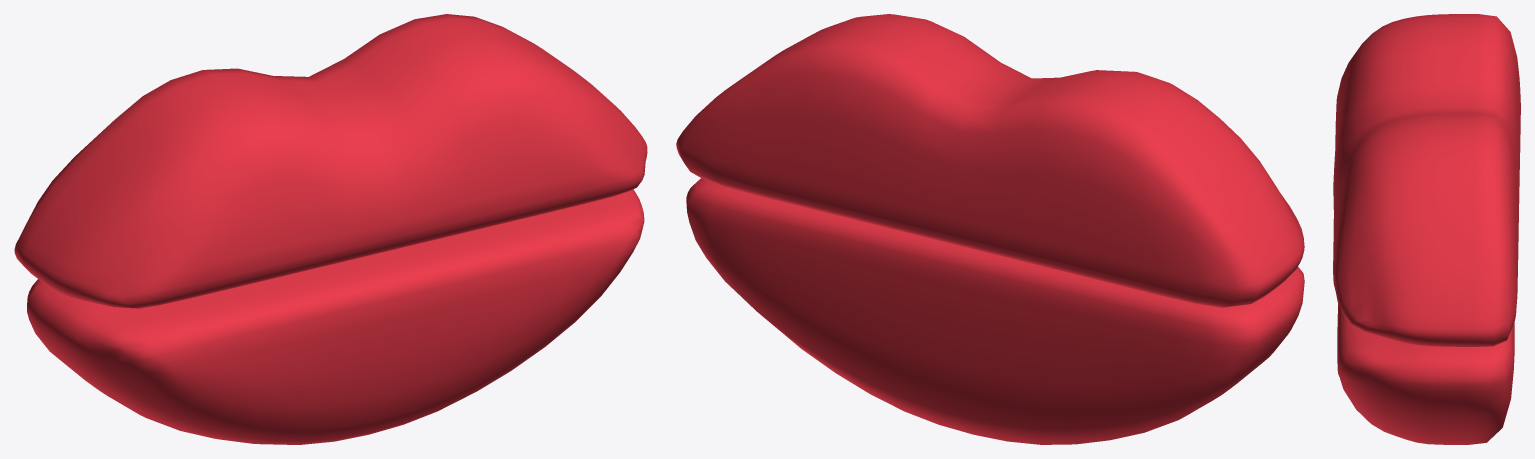
File: mouth.glb
3 renders of one model, left to right at view 1: azimuth 30°, elevation 25°; view 2: azimuth 150°, elevation 25°; view 3: azimuth 270°, elevation 25°, orthographic. The views are drawn at different scales.
Visible parts, largest first — view 1: top, bottom; view 2: top, bottom; view 3: top, bottom.
Boxes of the visible parts, box(x1,y1,x2,y2) form: top: box(14, 14, 647, 308); bottom: box(27, 189, 644, 444); top: box(676, 14, 1304, 307); bottom: box(686, 178, 1304, 444); top: box(1333, 14, 1520, 346); bottom: box(1337, 303, 1514, 444).
Size of the model in its own units: 2.81 by 1.66 by 0.849.
